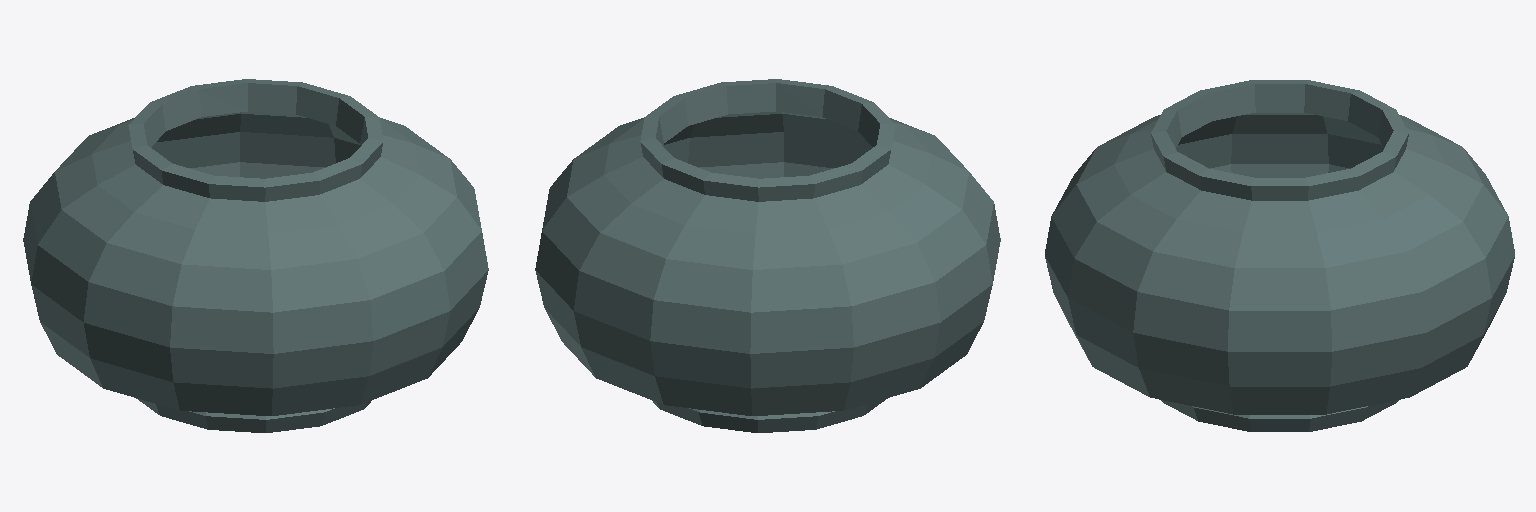
Rendered from FishBowlVegetation.obj.
3 renders of one model, left to right at view 1: azimuth 30°, elevation 25°; view 2: azimuth 150°, elevation 25°; view 3: azimuth 270°, elevation 25°, orthographic.
Parts seen in each view (by area): view 1: Fish_Bowl; view 2: Fish_Bowl; view 3: Fish_Bowl.
Boxes of the visible parts, x1=… form: Fish_Bowl: x1=23, y1=79, x2=488, y2=432; Fish_Bowl: x1=535, y1=79, x2=1000, y2=432; Fish_Bowl: x1=1045, y1=80, x2=1514, y2=431.
Bounding box in the file's own units: 30.25 × 18.2 × 31.05.